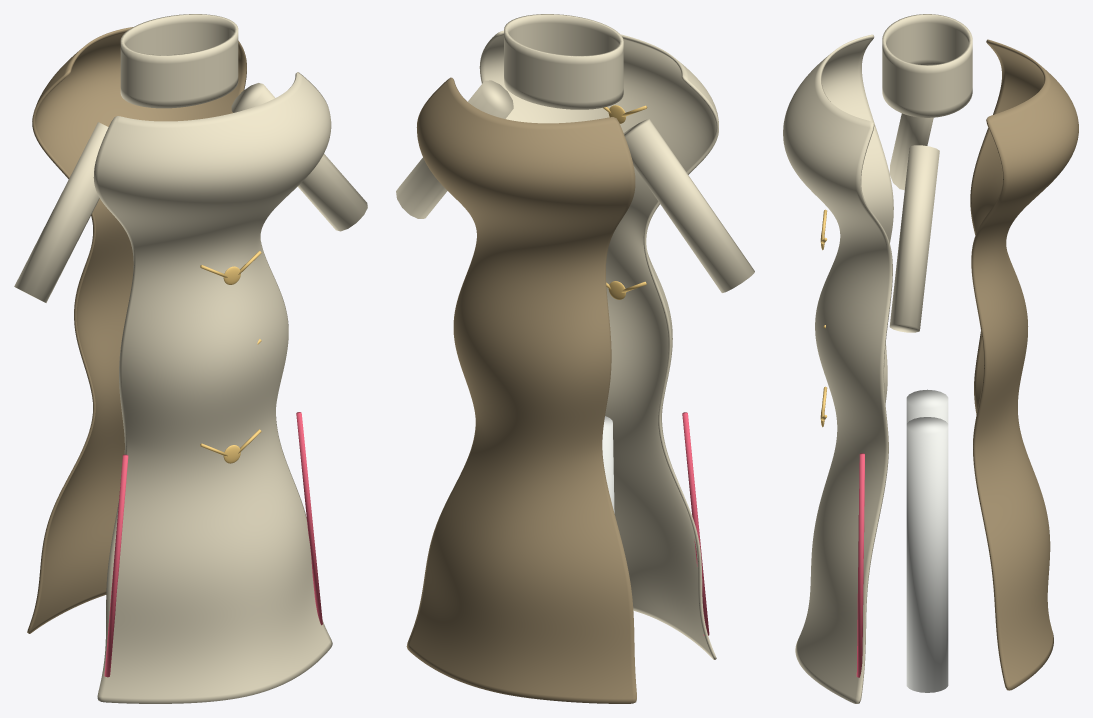
The model's file is BL_AODAI_004.glb.
3 views of the same model, side by side, from view 1: azimuth 30°, elevation 25°; view 2: azimuth 150°, elevation 25°; view 3: azimuth 270°, elevation 25° (orthographic). The views are drawn at different scales.
Visible parts, largest first — view 1: front ao dai panel, back ao dai panel, structured high collar, silk sleeve, silk sleeve.001, side slit piping, side slit piping.002; view 2: back ao dai panel, front ao dai panel, structured high collar, silk sleeve, silk sleeve.001, side slit piping, ivory trouser leg; view 3: front ao dai panel, back ao dai panel, ivory trouser leg.001, structured high collar, silk sleeve.001, silk sleeve, side slit piping.002, ivory trouser leg.
Boxes of the visible parts, x1,y1,x2,y2 form: front ao dai panel: [93, 72, 332, 703]; back ao dai panel: [27, 27, 246, 633]; structured high collar: [120, 14, 238, 108]; silk sleeve: [14, 122, 108, 302]; silk sleeve.001: [231, 83, 367, 231]; side slit piping: [104, 454, 128, 677]; side slit piping.002: [296, 412, 322, 625]; back ao dai panel: [406, 77, 636, 703]; front ao dai panel: [479, 30, 718, 659]; structured high collar: [504, 14, 623, 109]; silk sleeve: [623, 119, 754, 292]; silk sleeve.001: [396, 80, 513, 218]; side slit piping: [682, 412, 709, 635]; ivory trouser leg: [602, 416, 614, 513]; front ao dai panel: [783, 34, 893, 703]; back ao dai panel: [970, 39, 1078, 690]; ivory trouser leg.001: [906, 417, 948, 692]; structured high collar: [882, 14, 972, 117]; silk sleeve.001: [889, 145, 939, 332]; silk sleeve: [889, 113, 933, 189]; side slit piping.002: [856, 453, 864, 677]; ivory trouser leg: [906, 389, 948, 423].
Size of the model in its own units: 1.42 by 2.45 by 1.05.
